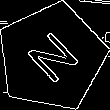N_SE: (19, 25, 84, 89)
